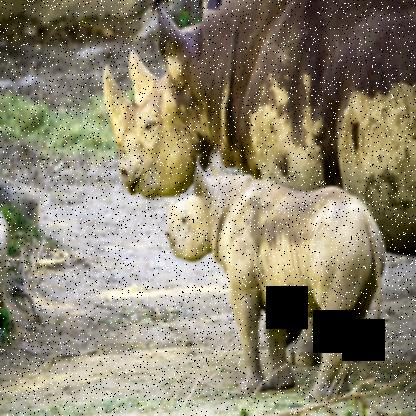Diceros bicornis: (101, 0, 416, 368), (165, 147, 387, 403)
